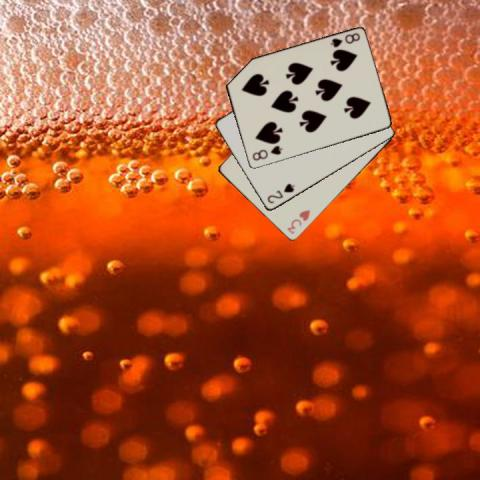2s: (264, 181, 296, 205)
3h: (284, 208, 311, 236)
8s: (249, 143, 284, 162), (328, 30, 361, 49)
